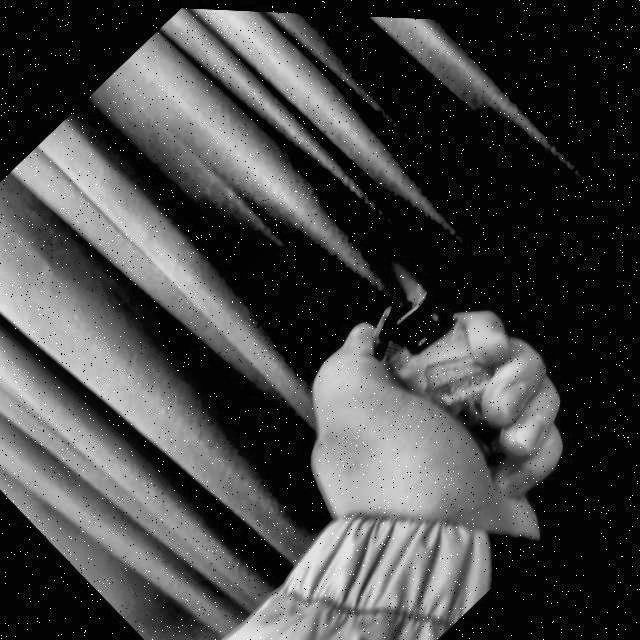Fire: (377, 245, 439, 305)
